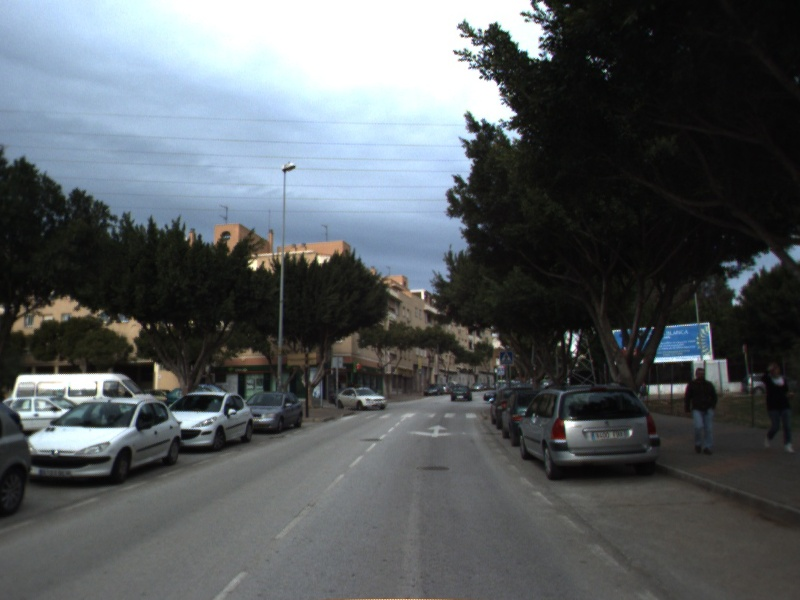STRAIGHT_LEFT_RIGHT: (406, 422, 468, 440)
